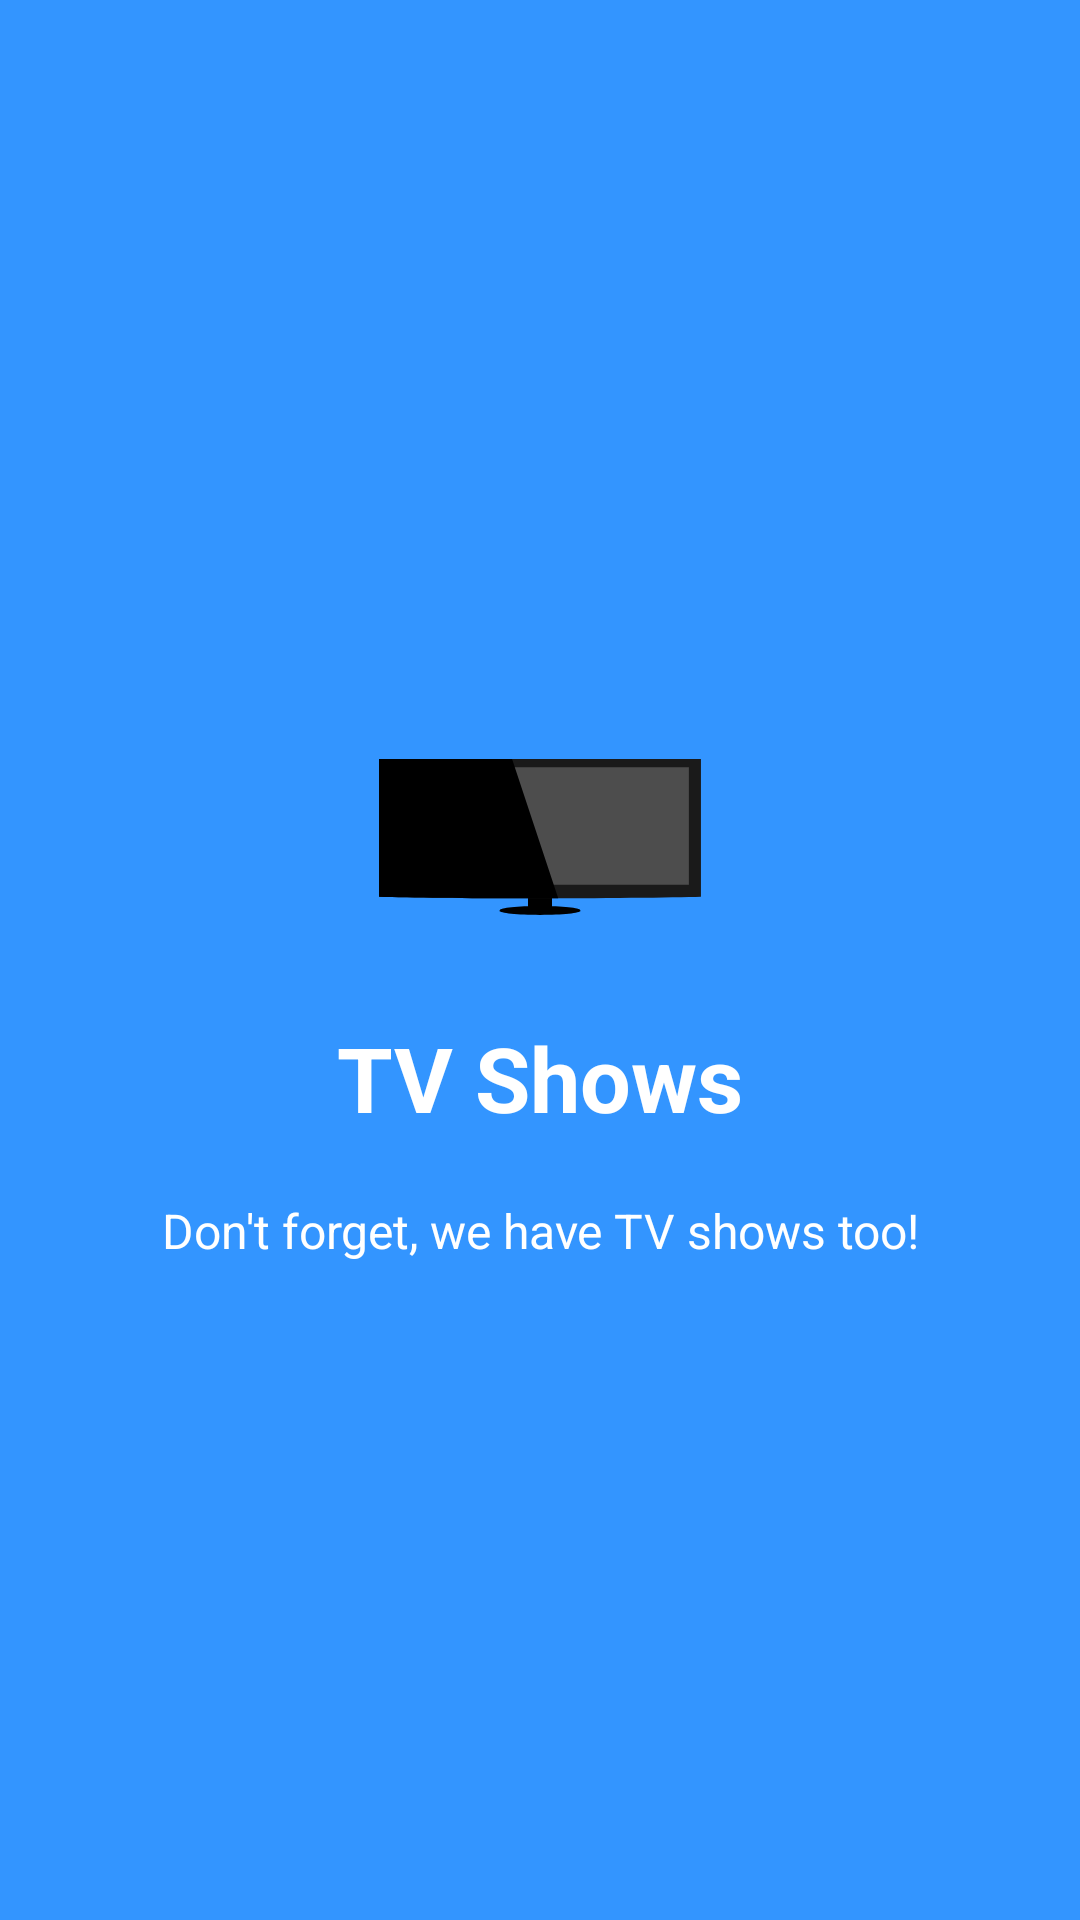

Locate icon controls on the screen. Image size 1080*1920, boxes as (x1, y1, x2, y2).
aldisain plasma tv: (379, 759, 701, 915)
